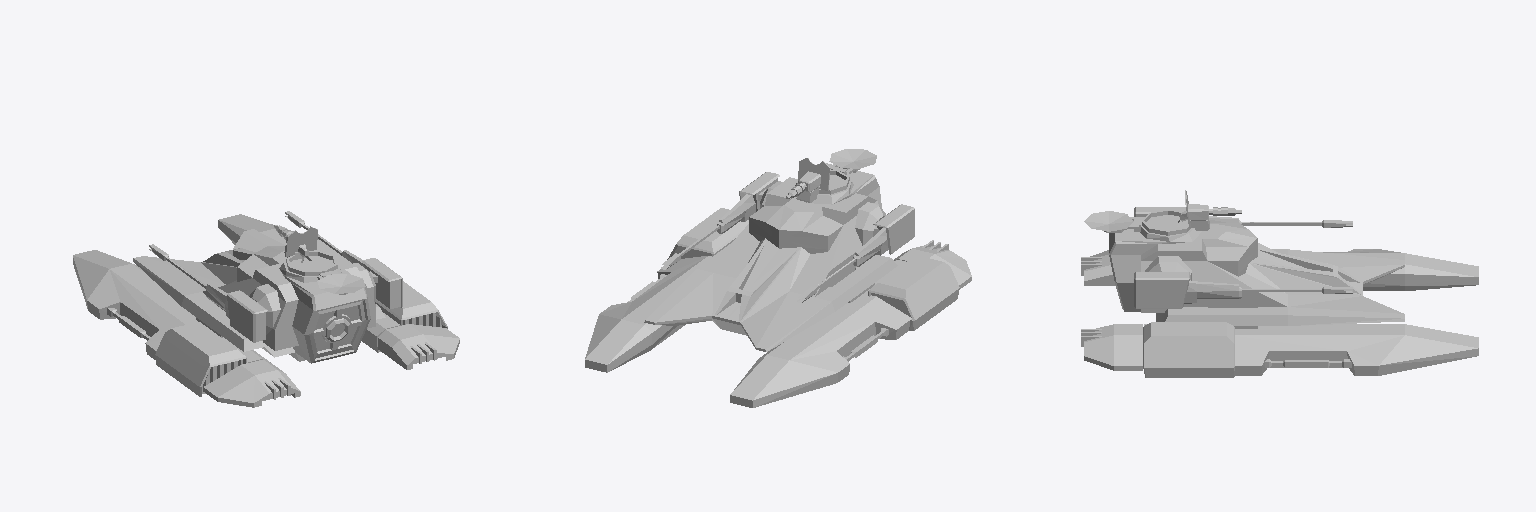
File: tank.obj
The picture shows the model from 3 angles: view 1: azimuth 30°, elevation 25°; view 2: azimuth 150°, elevation 25°; view 3: azimuth 270°, elevation 25°; orthographic projection.
Visible parts, largest first — view 1: mesh_part1; view 2: mesh_part1; view 3: mesh_part1.
Part boxes in pixels (x1,y1,x2,y2): mesh_part1: (73, 211, 459, 407); mesh_part1: (585, 149, 971, 407); mesh_part1: (1081, 190, 1478, 377).
Size of the model in its own units: 4.95 by 2.38 by 6.87.